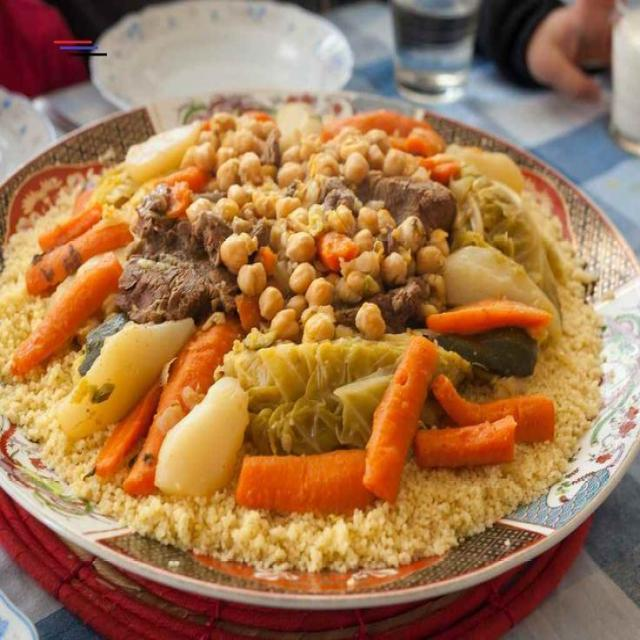Couscous: (4, 99, 640, 606)
